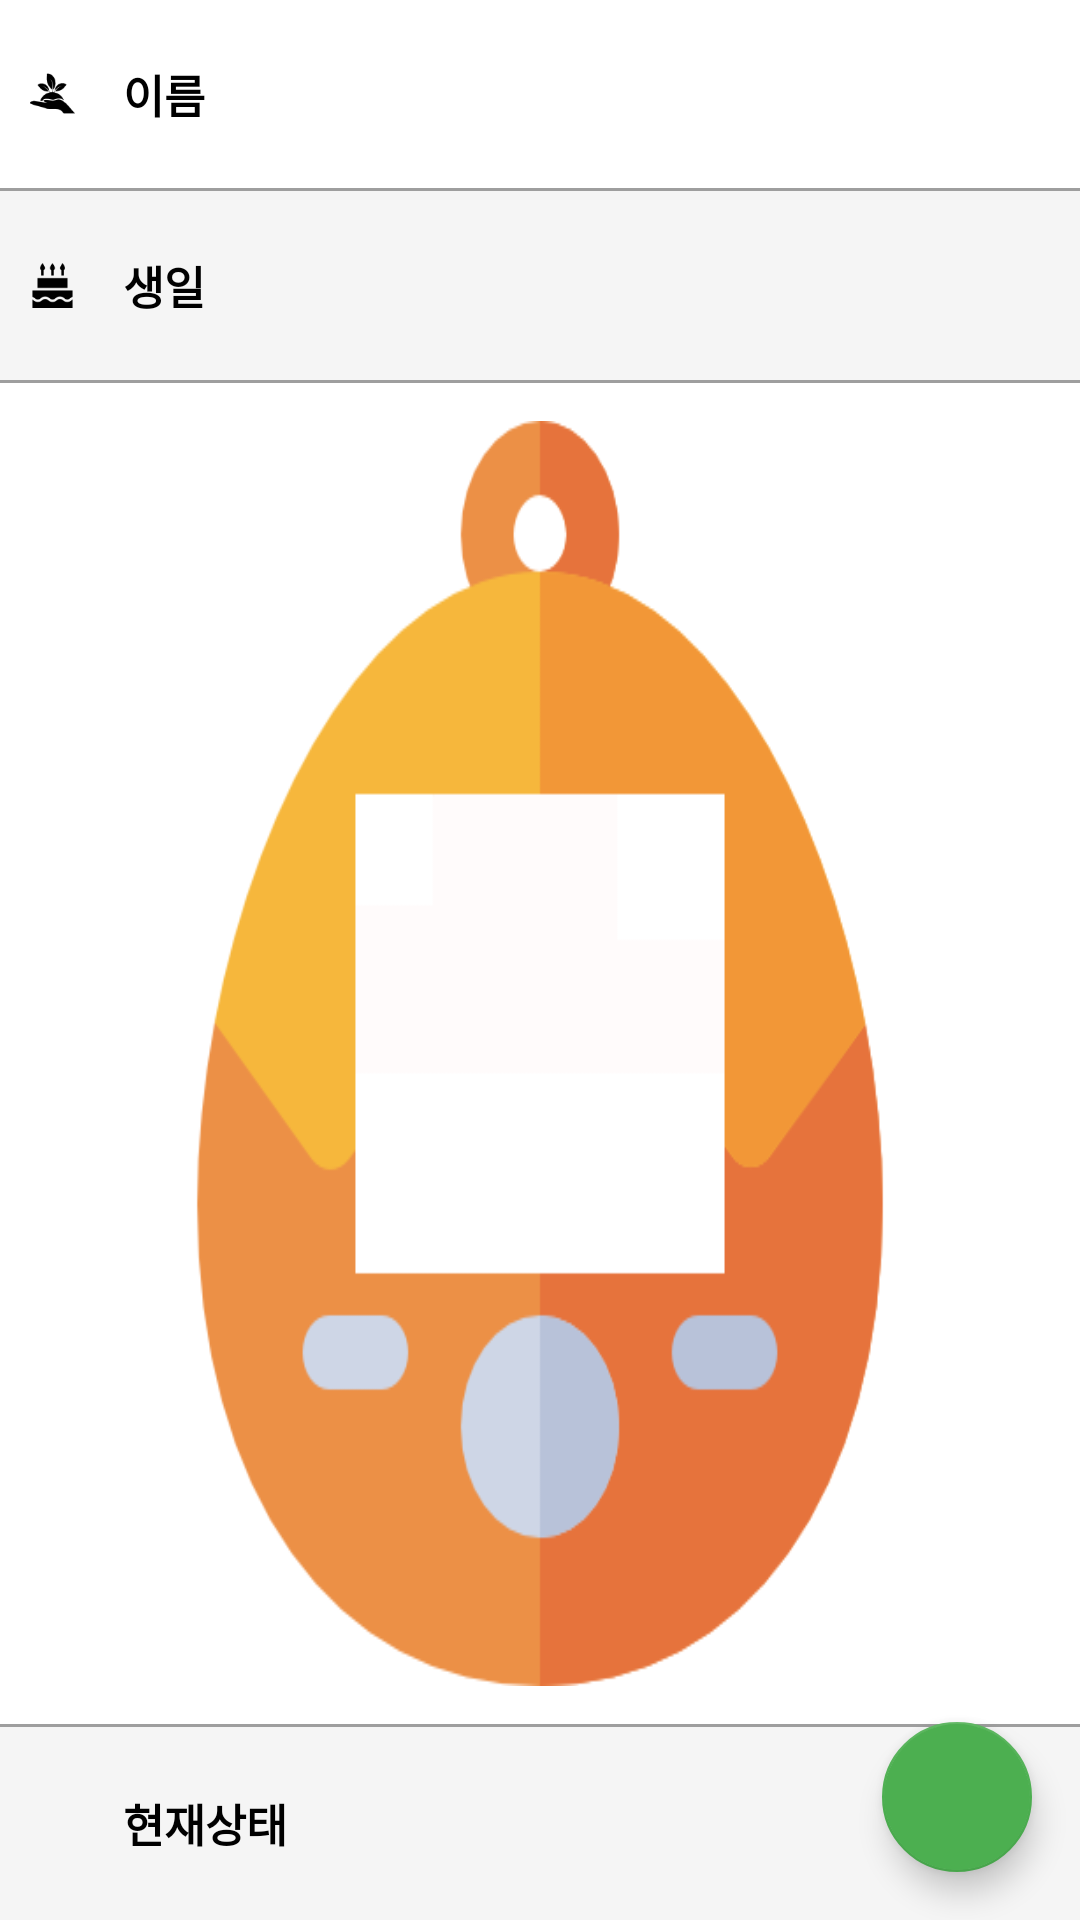

Named icons in this screenshot (1080w x 1920h) and their centers, point (x, y):
birth: point (52, 285)
